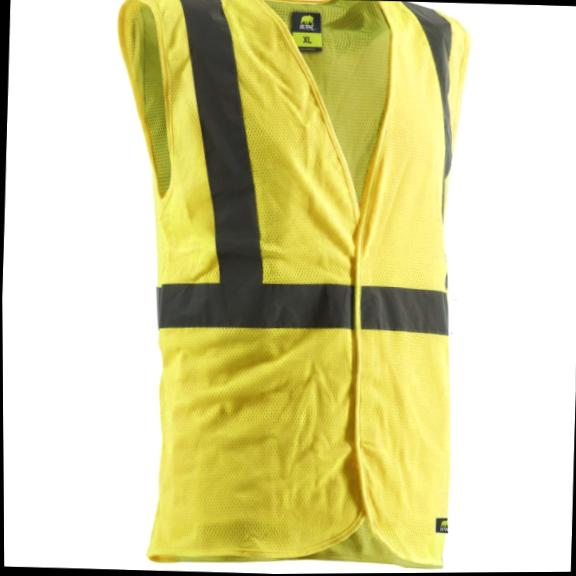safety_vest: (94, 0, 476, 572)
